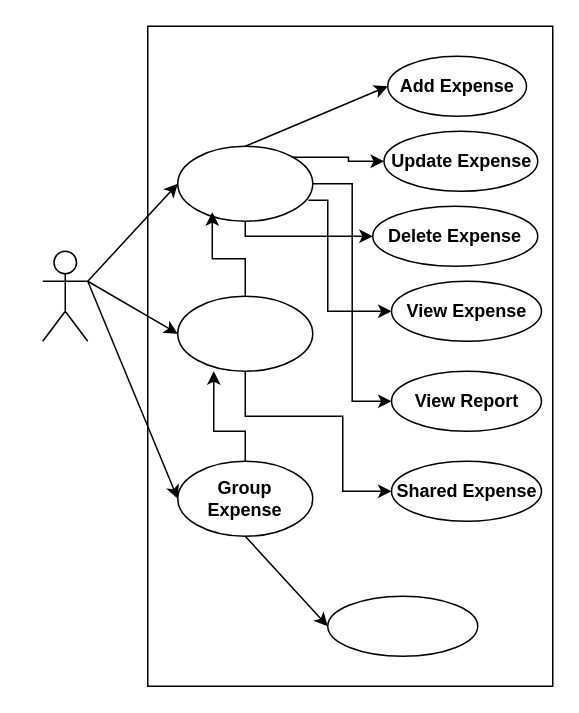
Some shapes in this 579 by 713 pixel diagram are drawn without their labels. The shapes that lost their labels are listed below. From the top down, each one's centre as x and y in pixels, then its label:
At (244,183): "Personal Expense".
At (64,295): "End User".
At (244,333): "Dual Expense".
At (402,625): "Split Expense".
